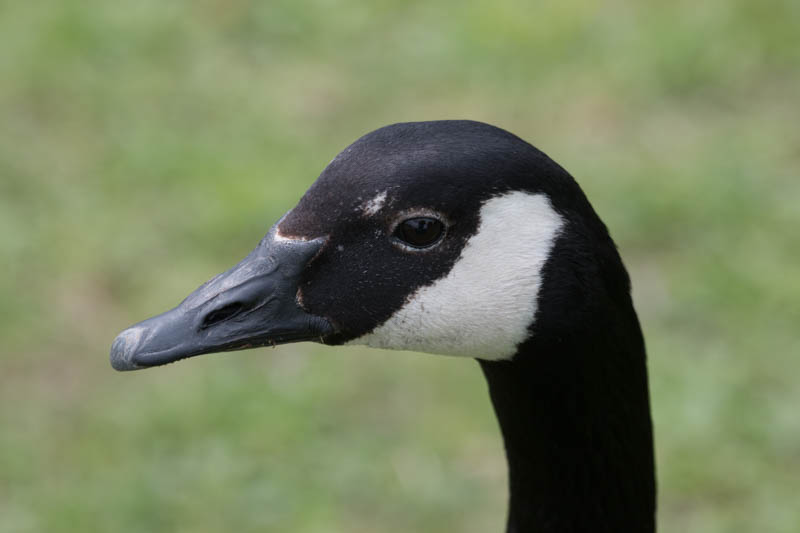goose-head: (108, 118, 622, 372)
